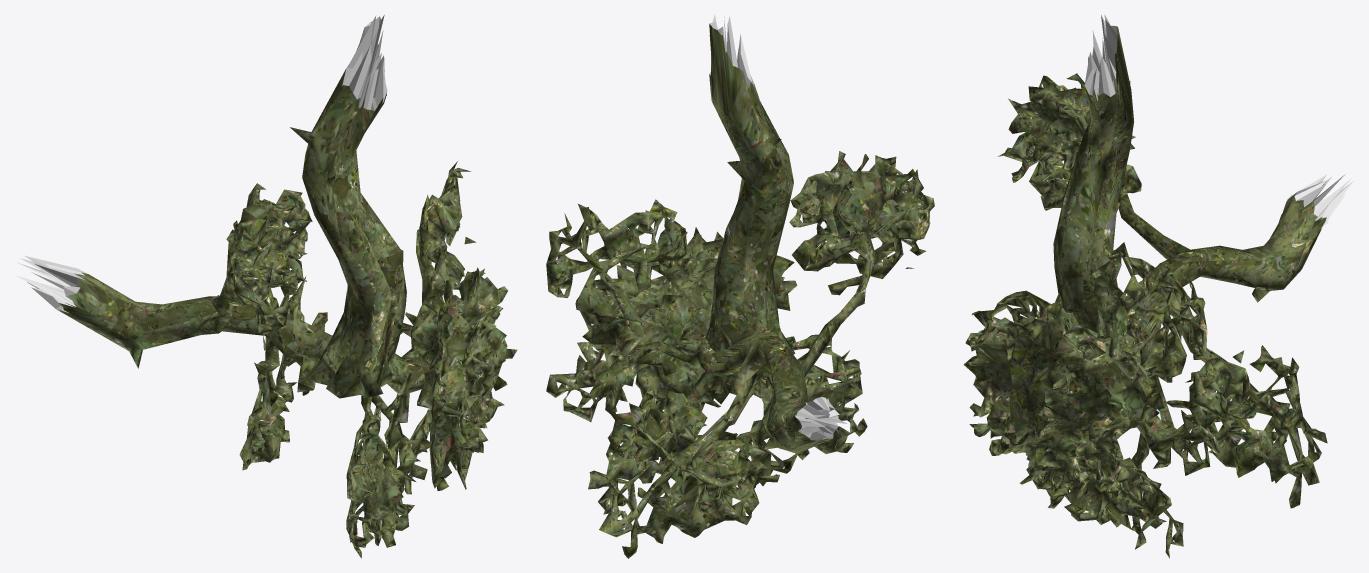
Rendered from SM_ShelledPine_B.fbx.
The picture shows the model from 3 angles, left to right: view 1: azimuth 30°, elevation 25°; view 2: azimuth 150°, elevation 25°; view 3: azimuth 270°, elevation 25°; orthographic projection. The views are drawn at different scales.
Parts seen in each view (by area): view 1: FallenTop, SM_ShelledPine_B; view 2: FallenTop, SM_ShelledPine_B; view 3: FallenTop, SM_ShelledPine_B.
Part boxes in pixels (x1,y1,x2,y2): FallenTop: (15,161,517,558); SM_ShelledPine_B: (290,15,406,398); FallenTop: (546,151,934,558); SM_ShelledPine_B: (695,14,795,379); FallenTop: (963,73,1353,558); SM_ShelledPine_B: (1053,15,1143,349).
Size of the model in its own units: 3.6 by 4.67 by 3.15.
